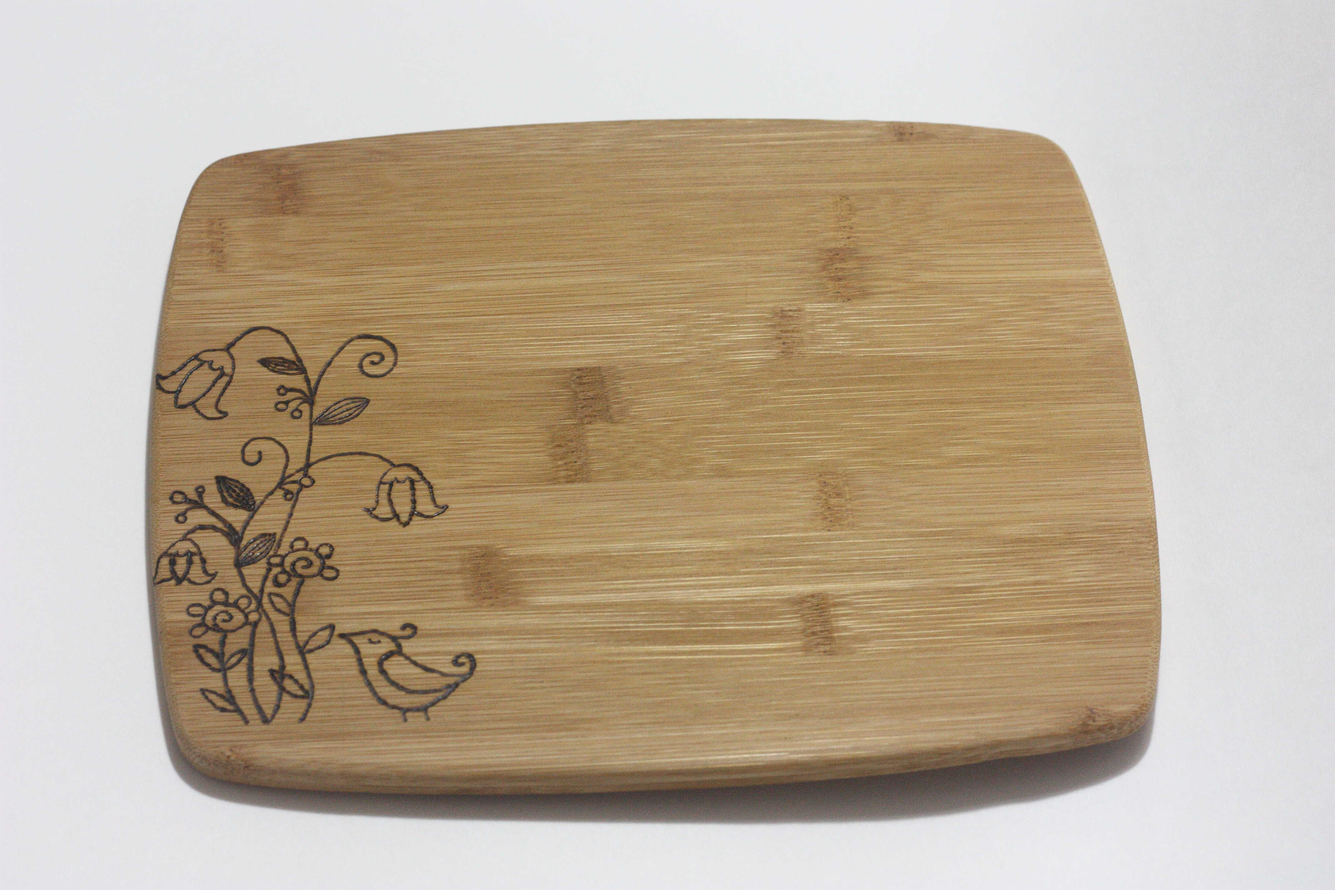gloved_hand: (129, 104, 1185, 824)
